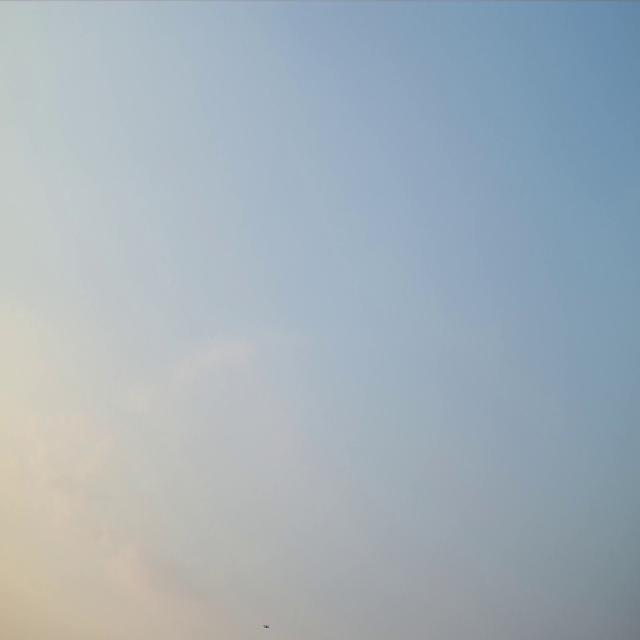UAV: (262, 622, 270, 630)
